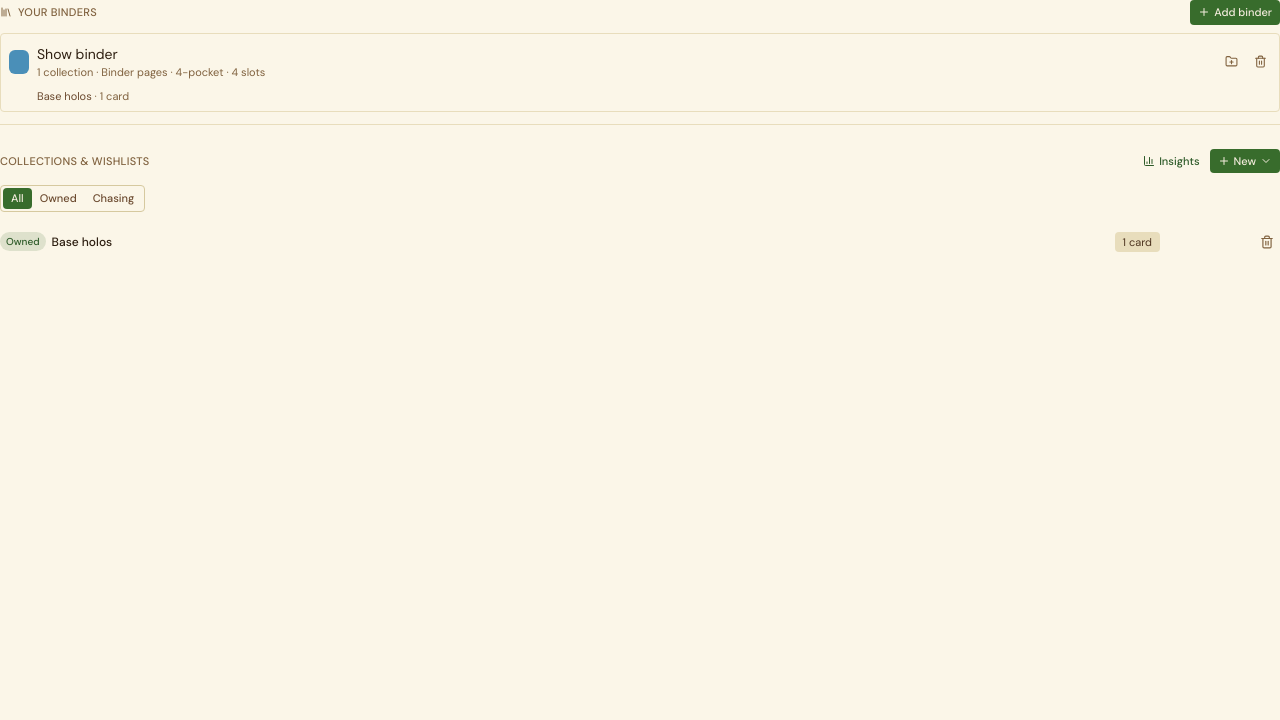
Test: LibraryBindersTab › opens a physical binder detail spread from the inventory row (#743)
The width and height of the screenshot is (1280, 720).
expect the text "Show binder" is shown: met, box [37,44,118,62]
Click the button named "open binder \"show binder\"" at (77, 54), box [9,40,1213,84]
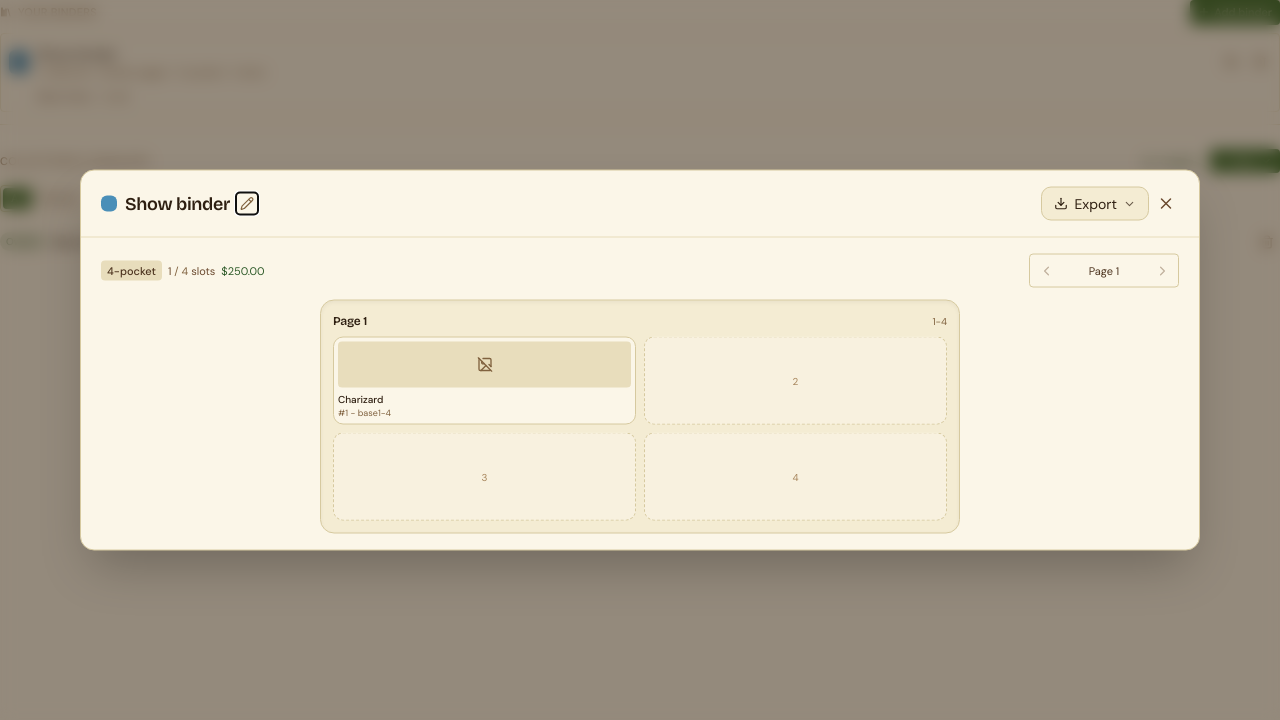
expect the text "Page 1" is shown: met, box [1089,263,1119,277]
expect the element named "slot 1: charizard" is shown: met, box [333,336,636,424]
expect the button "Export" is shown: met, box [1041,186,1149,220]
